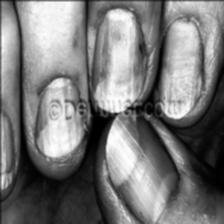Toxin: (94, 7, 146, 96), (102, 120, 144, 184), (156, 61, 209, 100), (33, 121, 85, 160)
